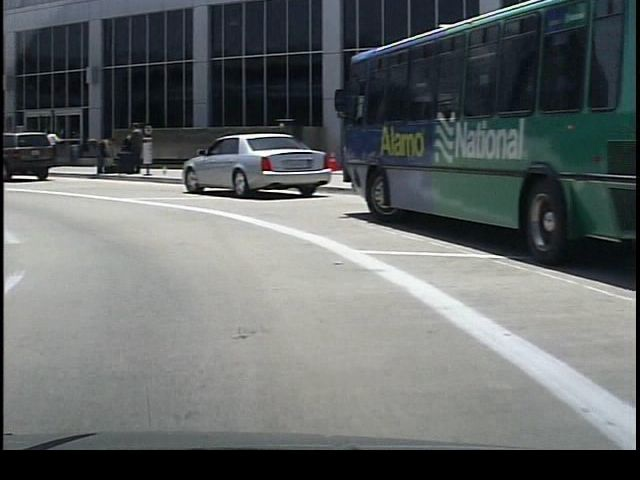person: (82, 126, 112, 180), (119, 121, 142, 175)
